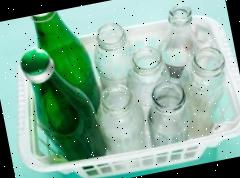glass: (13, 6, 114, 168)
